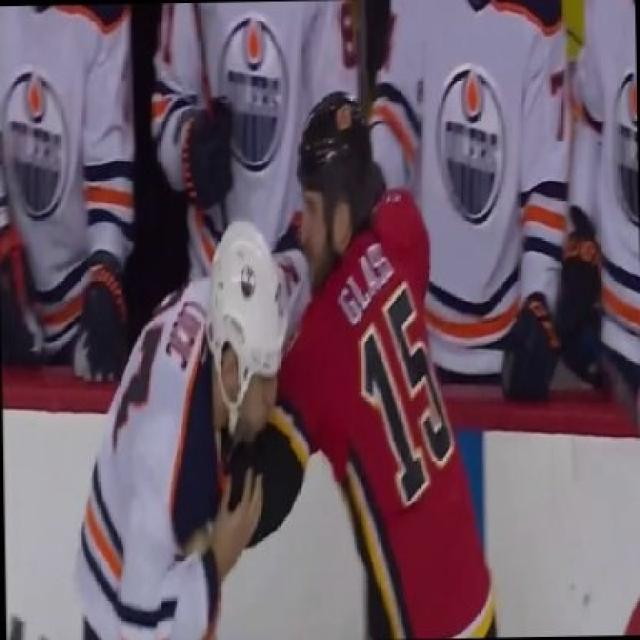fight: (80, 94, 503, 638)
